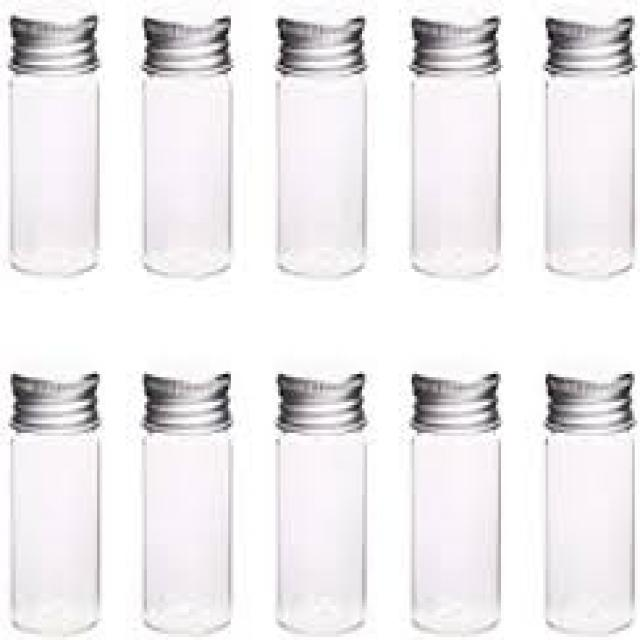Glass-Non-Biodegradable but Recyclable-: (8, 14, 106, 282)
